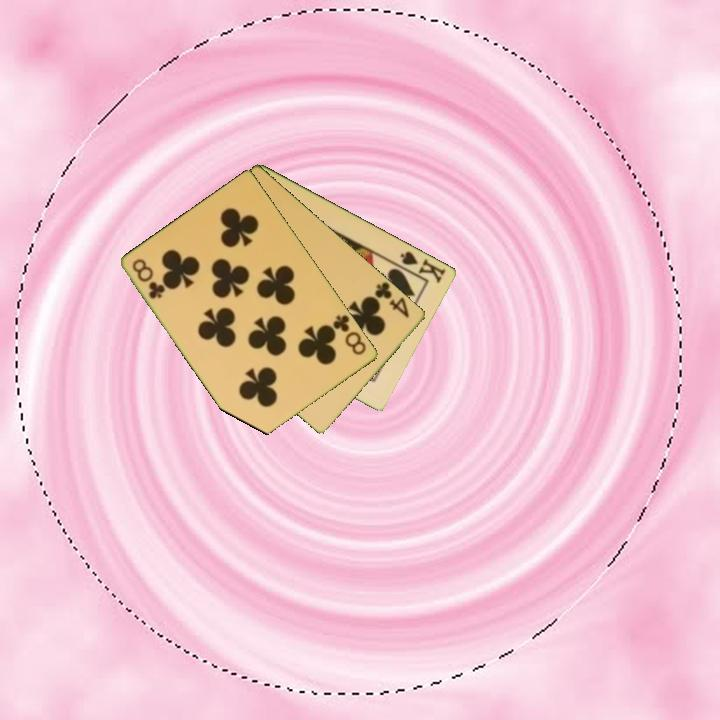4c: (371, 278, 413, 321)
8c: (327, 311, 370, 358), (129, 255, 168, 302)
Ks: (392, 247, 449, 286)
